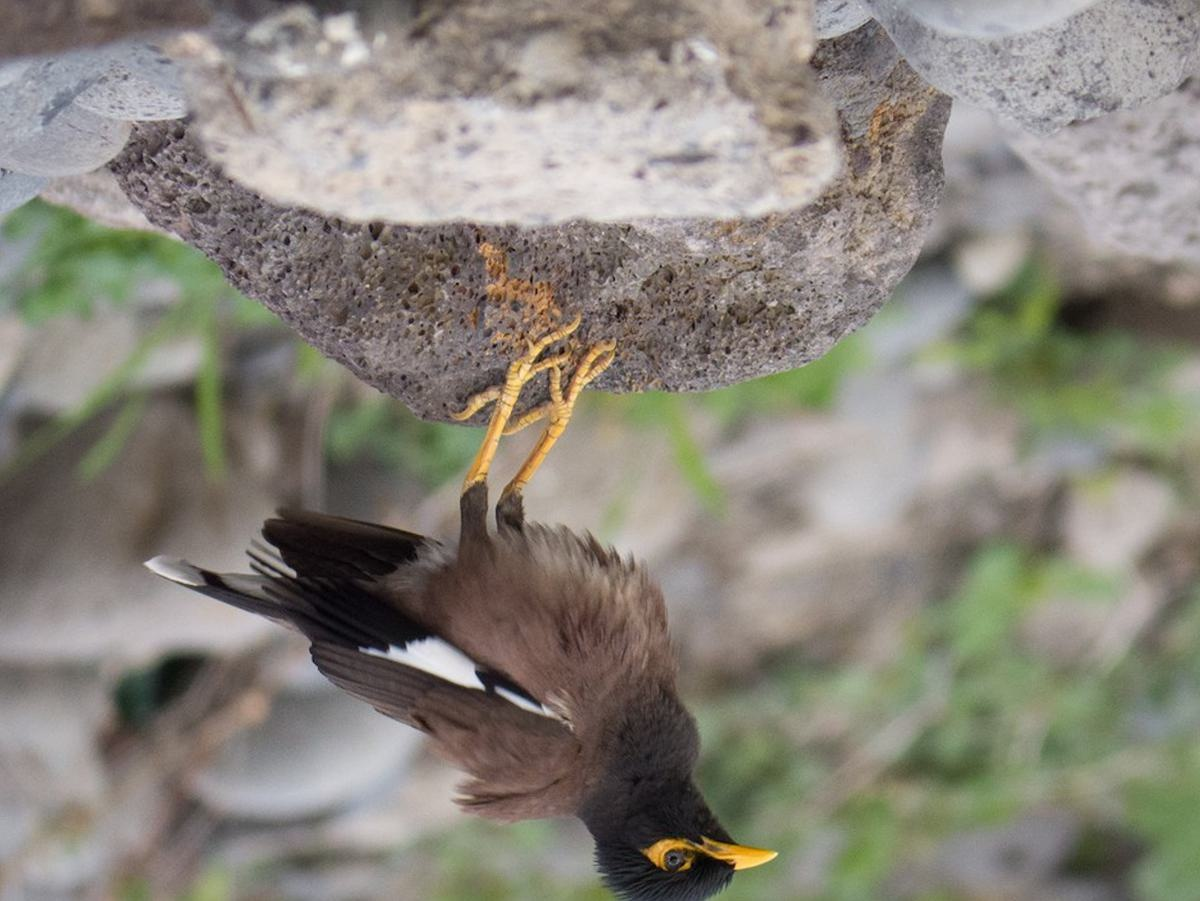myna: (240, 293, 817, 901)
